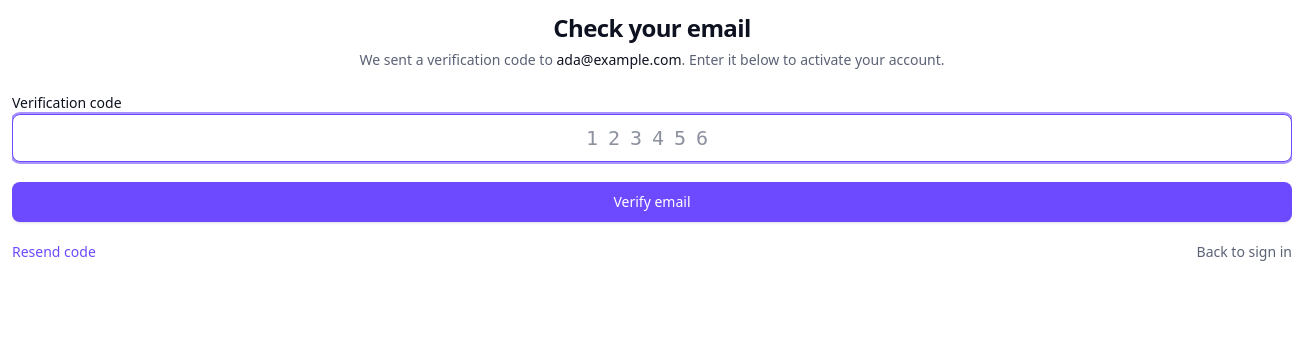
Scenario: email verification › shows invalid-code errors and rate-limits resends
Type "000000" into the field labelled "Verification code" at coordinates (652, 138), box [12,114,1292,162]
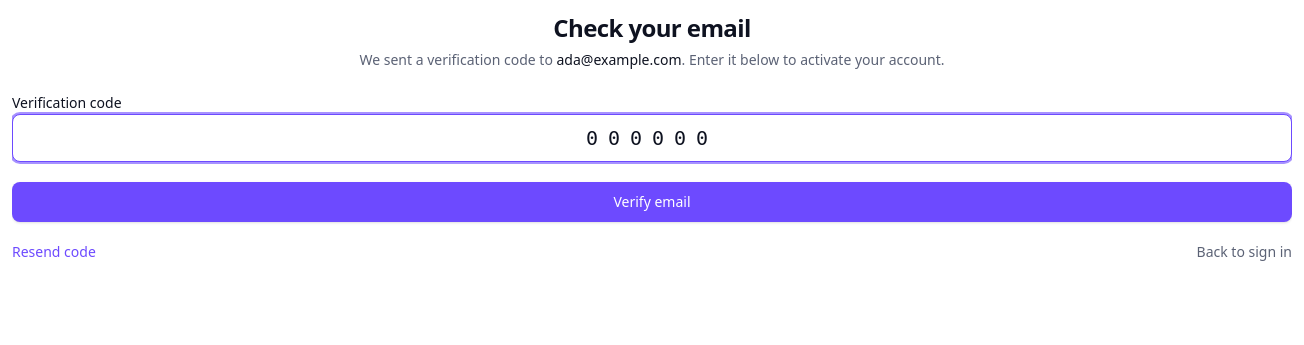
Click the button "Verify email" at coordinates (652, 202), box [12,182,1292,222]
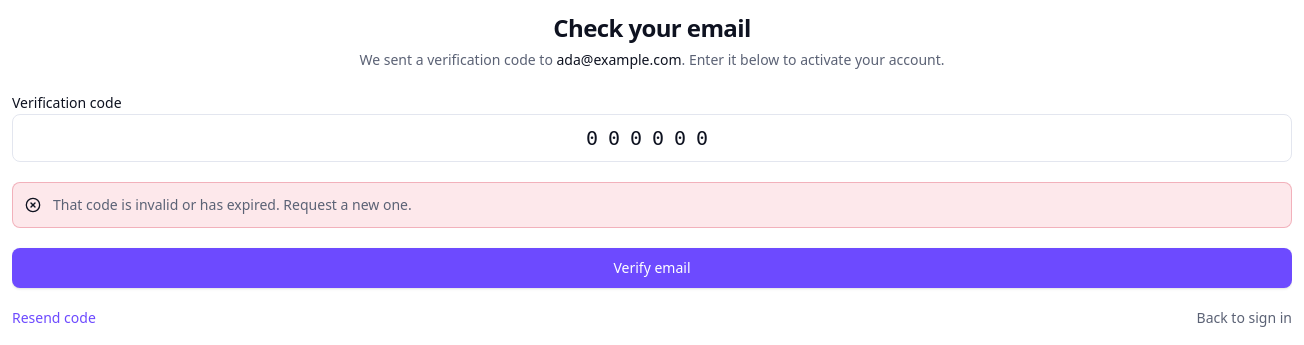
Expected: the text "That code is invalid or has expired. Request a new one." is shown, [53,195,412,214]
Click the button "Resend code" at coordinates (54, 318), box [12,308,96,328]
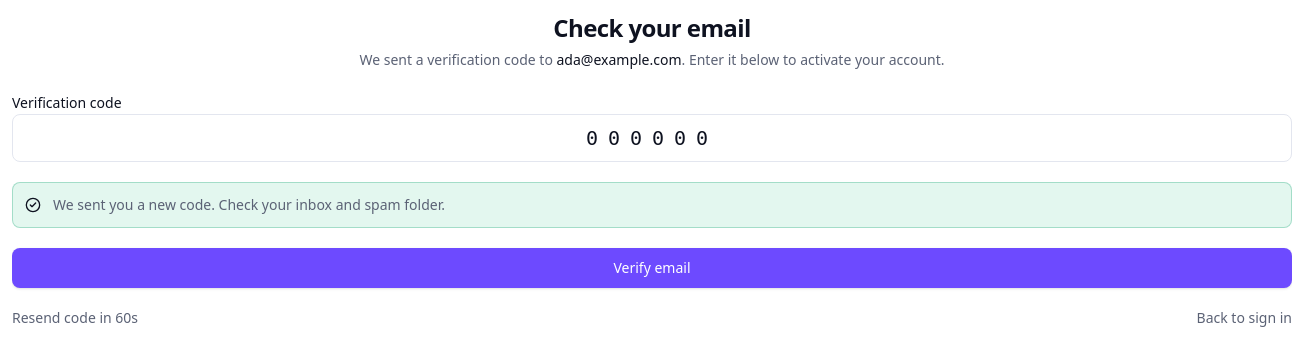
Expected: the button "Resend code in 60s" is disabled, [12,308,138,328]
